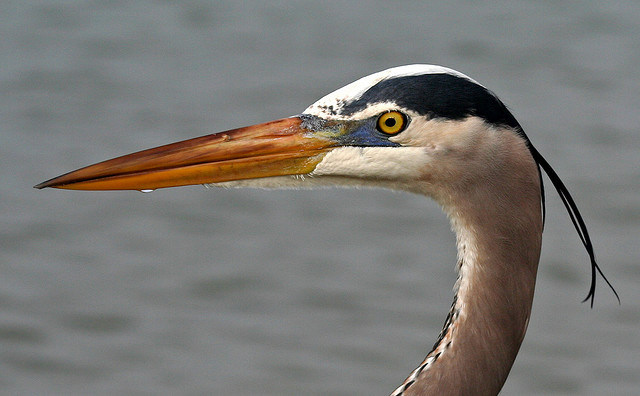heron: (29, 58, 609, 396)
